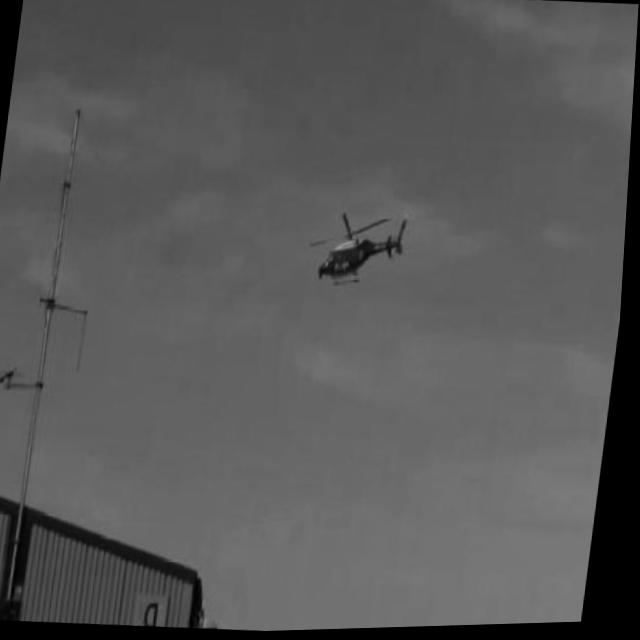helikopter: (309, 210, 411, 291)
